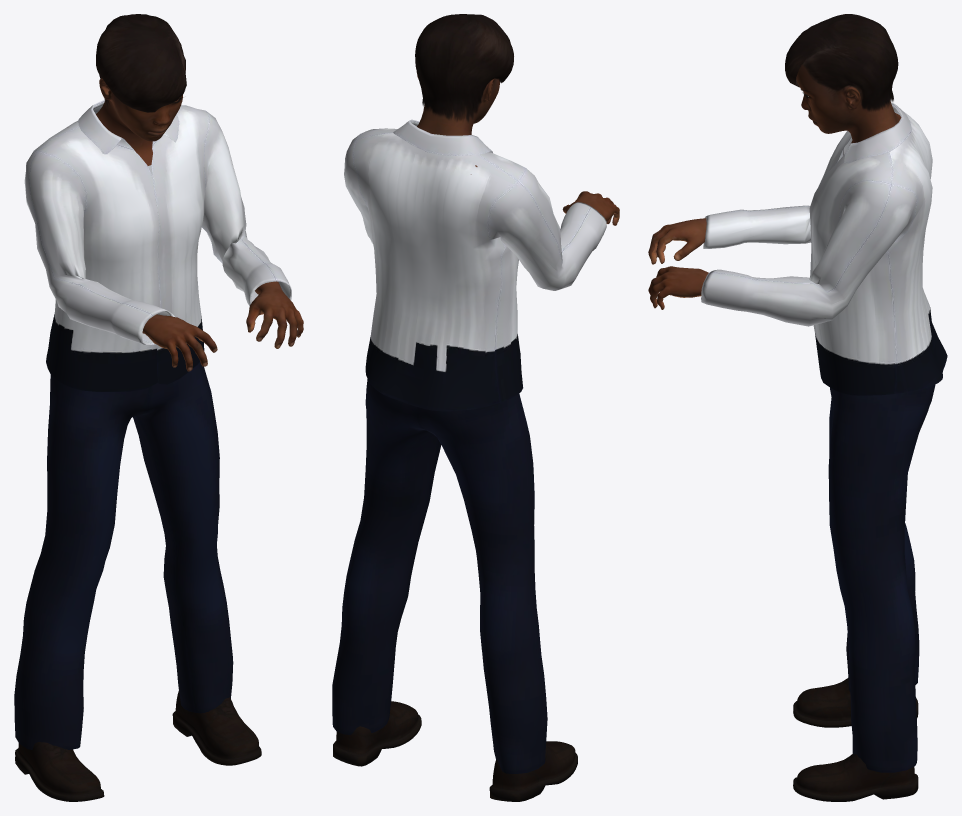
File: b4_counter.glb
3 views of the same model, side by side, from view 1: azimuth 30°, elevation 25°; view 2: azimuth 150°, elevation 25°; view 3: azimuth 270°, elevation 25° (orthographic).
Visible parts, largest first — view 1: b4.male_casualsuit03, b4, b4.shoes01, b4.short03; view 2: b4.male_casualsuit03, b4.short03, b4.shoes01, b4; view 3: b4.male_casualsuit03, b4.short03, b4, b4.shoes01.
Boxes of the visible parts, x1=… form: b4.male_casualsuit03: x1=14, y1=100, x2=291, y2=749; b4: x1=96, y1=66, x2=303, y2=371; b4.shoes01: x1=15, y1=691, x2=261, y2=801; b4.short03: x1=96, y1=14, x2=186, y2=112; b4.male_casualsuit03: x1=332, y1=119, x2=606, y2=773; b4.short03: x1=415, y1=14, x2=513, y2=123; b4.shoes01: x1=333, y1=701, x2=577, y2=801; b4: x1=416, y1=71, x2=619, y2=225; b4.male_casualsuit03: x1=701, y1=102, x2=947, y2=772; b4.short03: x1=785, y1=14, x2=898, y2=111; b4: x1=648, y1=64, x2=901, y2=309; b4.shoes01: x1=793, y1=678, x2=918, y2=801.
Bounding box in the file's own units: 0.4833 × 1.66 × 0.6123.
Materials: 7 (7 with a texture image).
